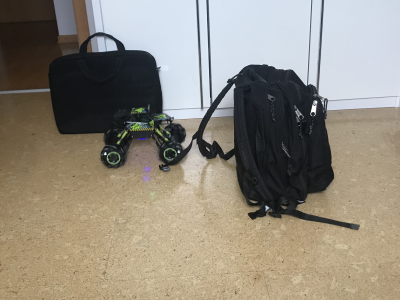remote control car: (99, 103, 187, 169)
